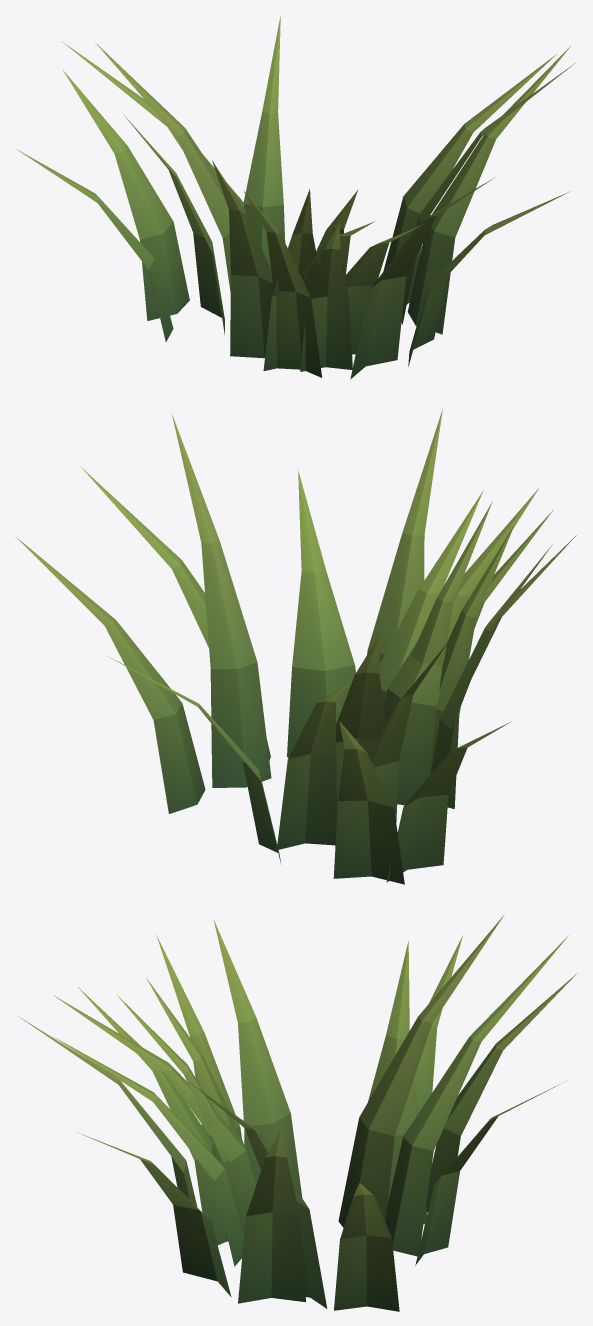
The model's file is gk_grass_meadow_tuft_small.glb.
The picture shows the model from 3 angles, top to bottom: view 1: azimuth 30°, elevation 25°; view 2: azimuth 150°, elevation 25°; view 3: azimuth 270°, elevation 25°; orthographic projection. The views are drawn at different scales.
Parts seen in each view (by area): view 1: gk_grass_meadow_tuft_small; view 2: gk_grass_meadow_tuft_small; view 3: gk_grass_meadow_tuft_small.
Boxes of the visible parts, x1,y1,x2,y2 form: gk_grass_meadow_tuft_small: (15, 16, 575, 379); gk_grass_meadow_tuft_small: (15, 410, 576, 884); gk_grass_meadow_tuft_small: (18, 914, 577, 1311).
Size of the model in its own units: 0.4473 by 0.2273 by 0.4131.
